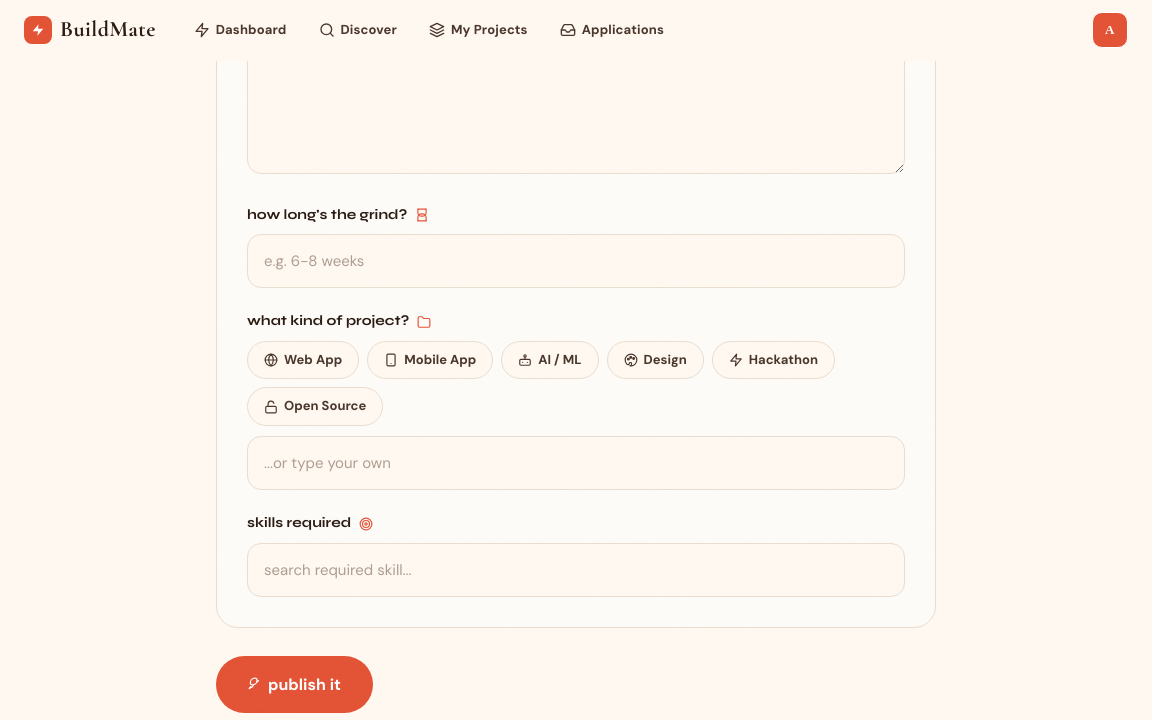
Test: CreateProject - Creation Mode › handles selecting preset chips for project type
(page scrolled)
Click the button "Web App". click: (303, 360)
box: [247, 341, 359, 380]
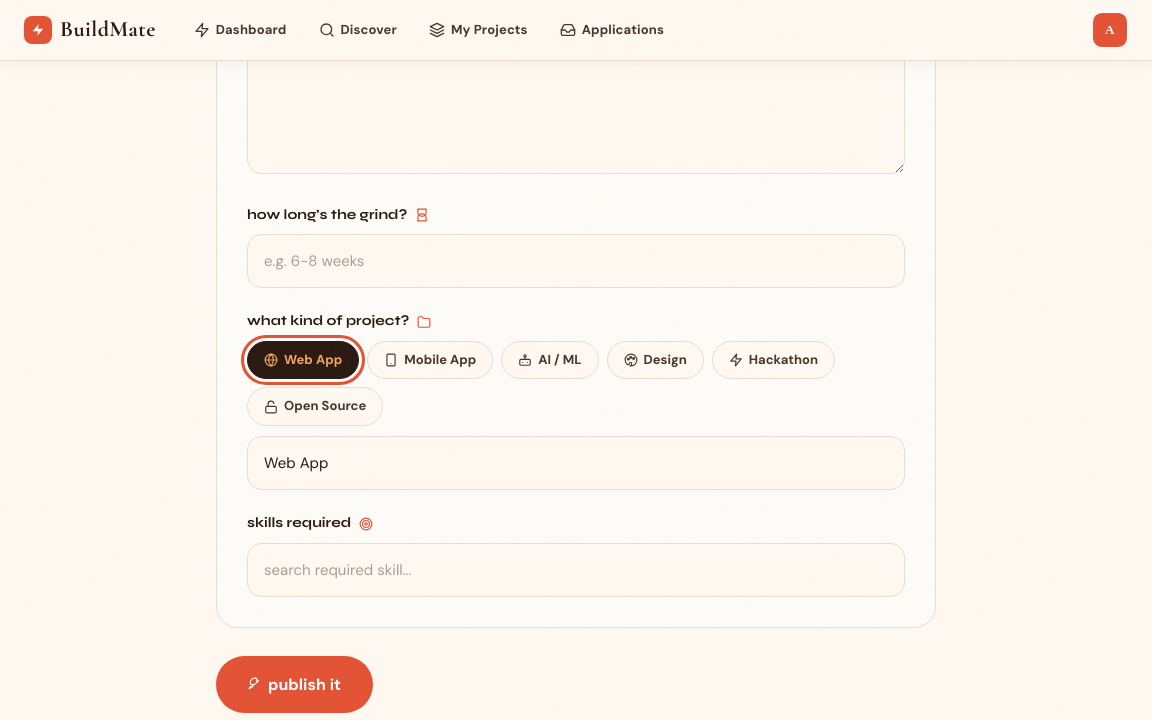
Now the field labelled "what kind of project?" holds "Web App", box [247, 436, 905, 490]
